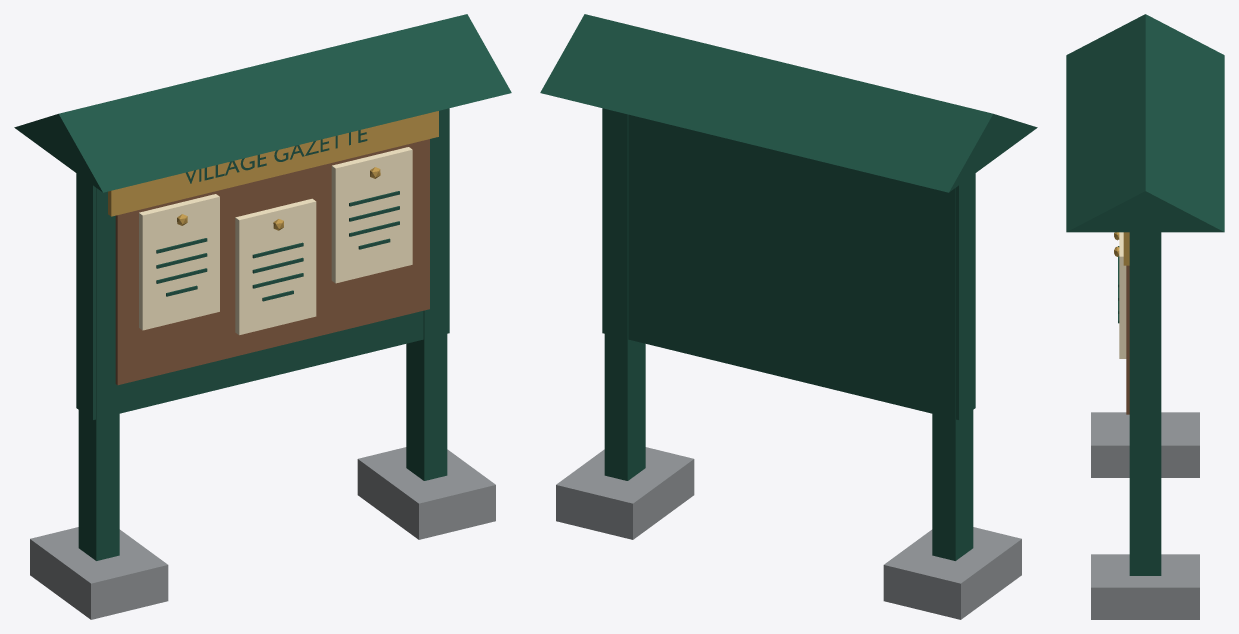
The model's file is notice_board.glb.
3 views of the same model, side by side, from view 1: azimuth 30°, elevation 25°; view 2: azimuth 150°, elevation 25°; view 3: azimuth 270°, elevation 25° (orthographic). The views are drawn at different scales.
Parts seen in each view (by area): view 1: board_roof, cork, backboard, post, post.001, notice_1, notice_2, notice_0, foot, foot.001, header, gazette_header; view 2: backboard, board_roof, post.001, post, foot, foot.001; view 3: board_roof, backboard, foot.001, foot, post.001, notice_2, cork, header.
Part boxes in pixels (bbox=[...]): board_roof: bbox=[14, 14, 511, 192]; cork: bbox=[115, 139, 429, 385]; backboard: bbox=[76, 108, 449, 419]; post: bbox=[78, 188, 119, 560]; post.001: bbox=[406, 109, 447, 480]; notice_1: bbox=[235, 198, 316, 335]; notice_2: bbox=[331, 147, 412, 283]; notice_0: bbox=[139, 194, 219, 330]; foot: bbox=[30, 527, 168, 619]; foot.001: bbox=[357, 447, 495, 539]; header: bbox=[108, 111, 438, 216]; gazette_header: bbox=[186, 130, 367, 183]; backboard: bbox=[602, 108, 975, 419]; board_roof: bbox=[540, 14, 1037, 192]; post.001: bbox=[604, 109, 645, 480]; post: bbox=[932, 188, 973, 560]; foot: bbox=[883, 527, 1021, 619]; foot.001: bbox=[556, 447, 694, 539]; board_roof: bbox=[1066, 14, 1224, 232]; backboard: bbox=[1130, 232, 1160, 451]; foot.001: bbox=[1091, 554, 1199, 619]; foot: bbox=[1091, 412, 1199, 477]; post.001: bbox=[1129, 232, 1161, 575]; notice_2: bbox=[1119, 232, 1126, 358]; cork: bbox=[1126, 265, 1129, 414]; header: bbox=[1123, 232, 1129, 265].
Size of the model in its own units: 2.12 by 2.4 by 0.8.
